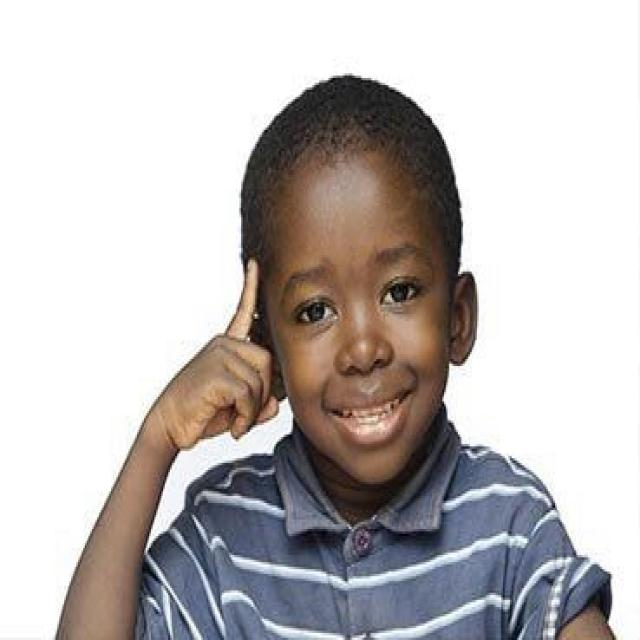child: (55, 72, 618, 640)
